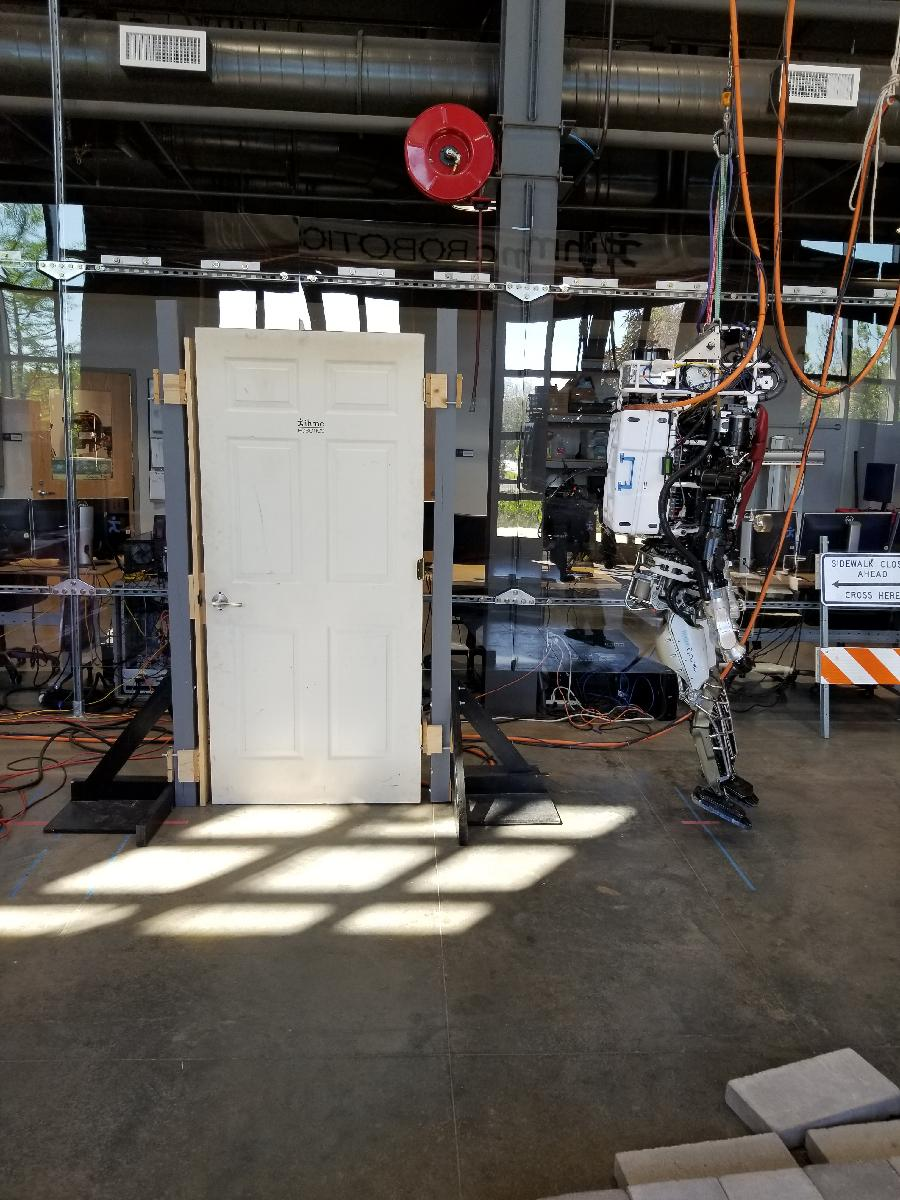door: (187, 323, 430, 810)
doorHandle: (211, 592, 250, 615)
